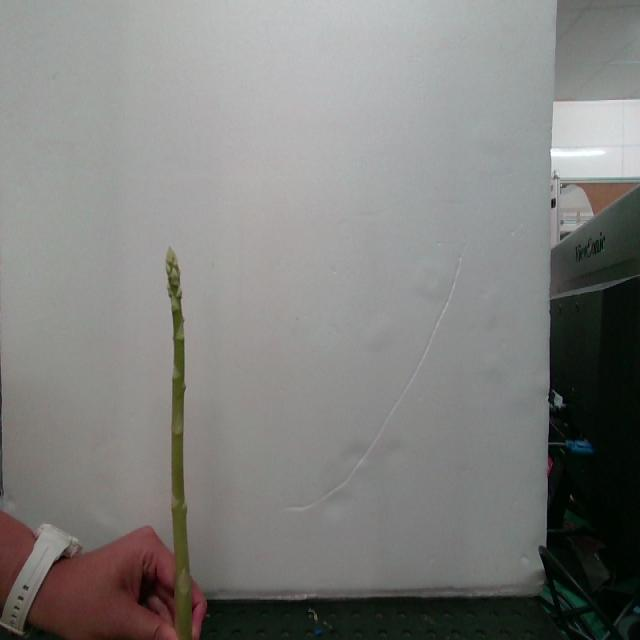aspargus: (166, 249, 196, 640)
